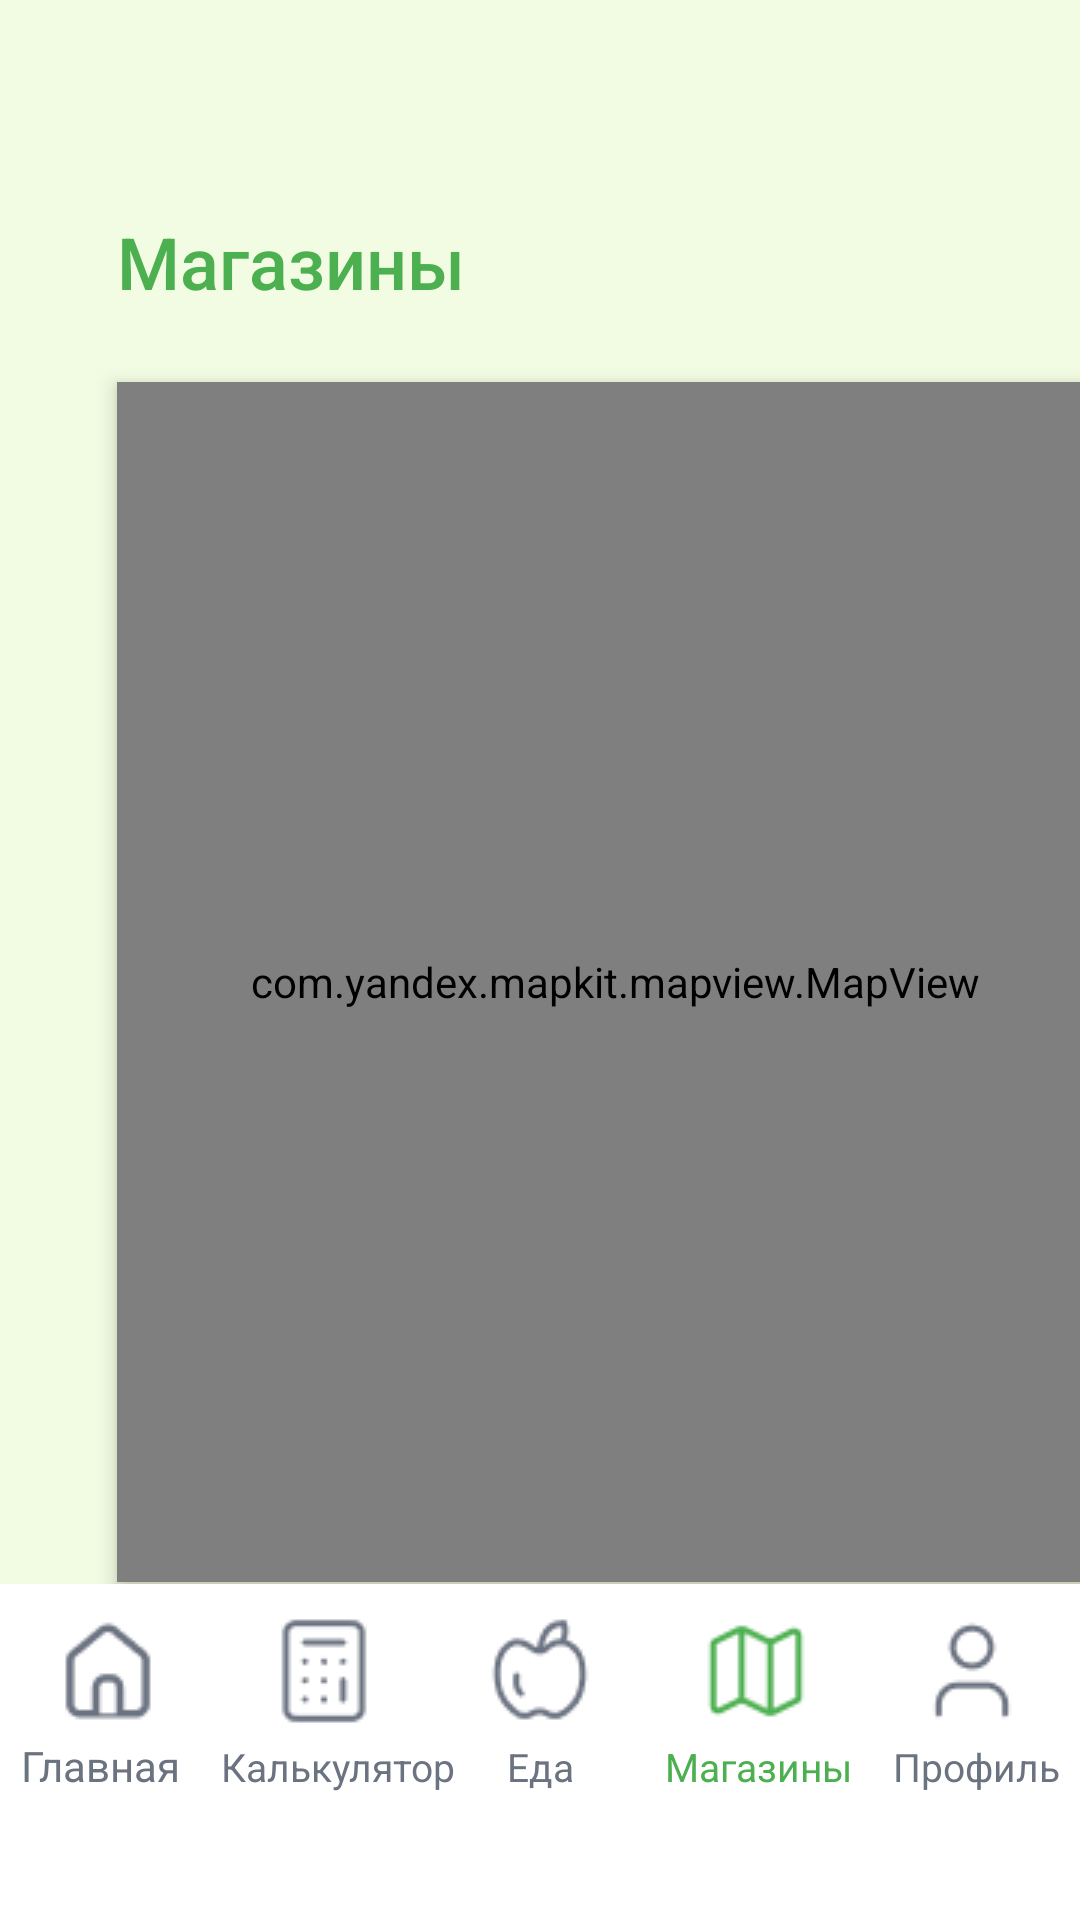

Icon bounding boxes for this 1080px x 1920px phone screenshot, format Rect(x1, y1, x2, y2):
apple: Rect(492, 1619, 588, 1720)
map: Rect(708, 1625, 804, 1717)
user: Rect(935, 1623, 1009, 1717)
